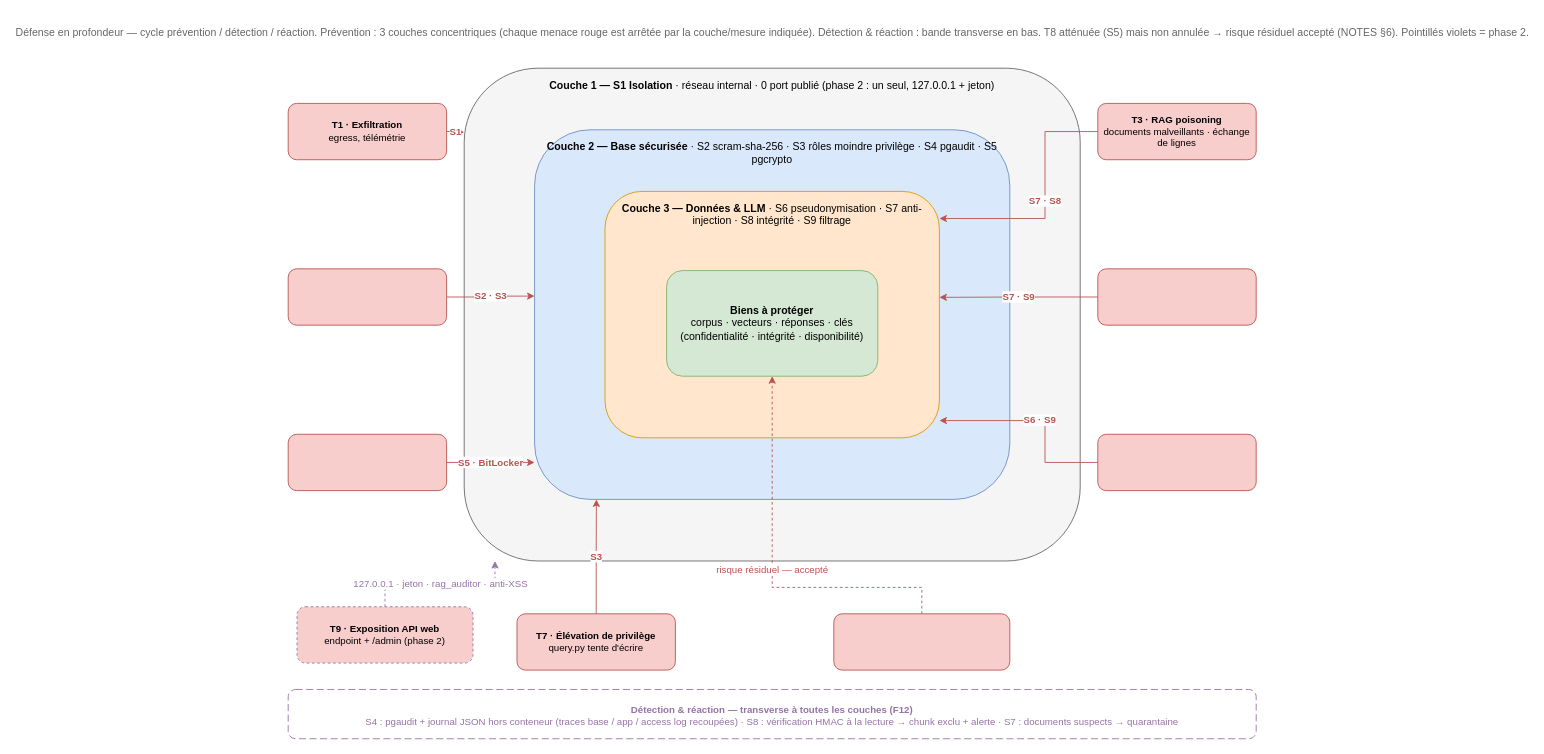
The diagram is 1544 pixels wide and 754 high, and some of its shapes have lost their labels. Each missing label, with the centre of its shape:
"T2 · Accès non autorisé credentials, connexion directe" belongs at (x=367, y=296).
"T4 · Injection indirecte instructions dans les documents" belongs at (x=1176, y=296).
"T5 · Fuite de PII dans les réponses" belongs at (x=1176, y=462).
"T6 · Vol au repos copie volume / disque" belongs at (x=367, y=462).
"T8 · Inversion d'embeddings vecteurs en clair (pgvector)" belongs at (x=921, y=641).
